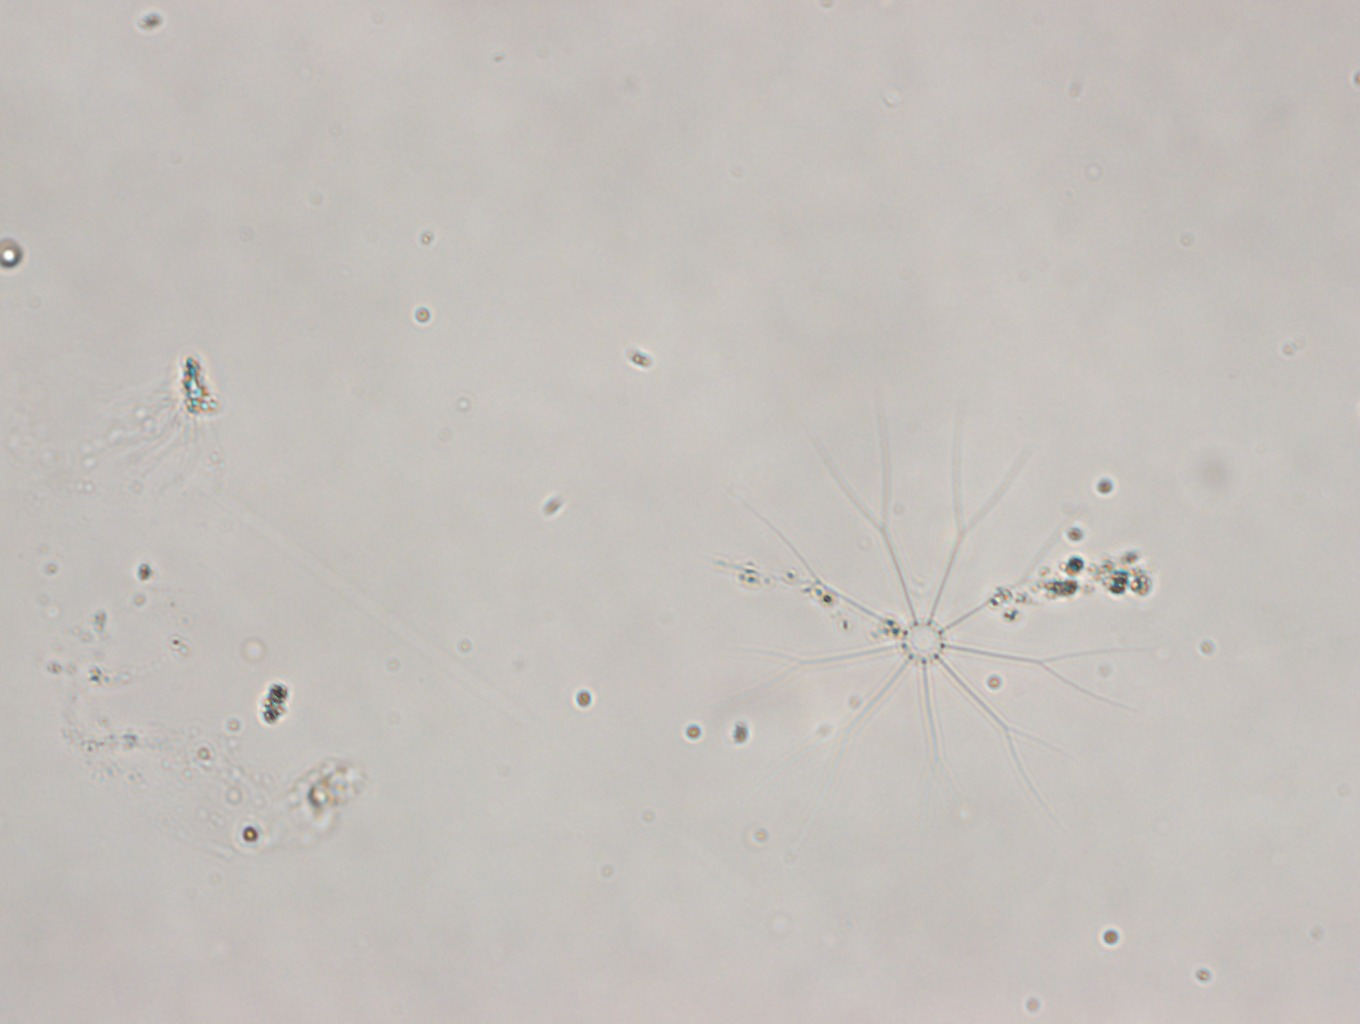bacteriastrum: (717, 416, 1143, 796)
